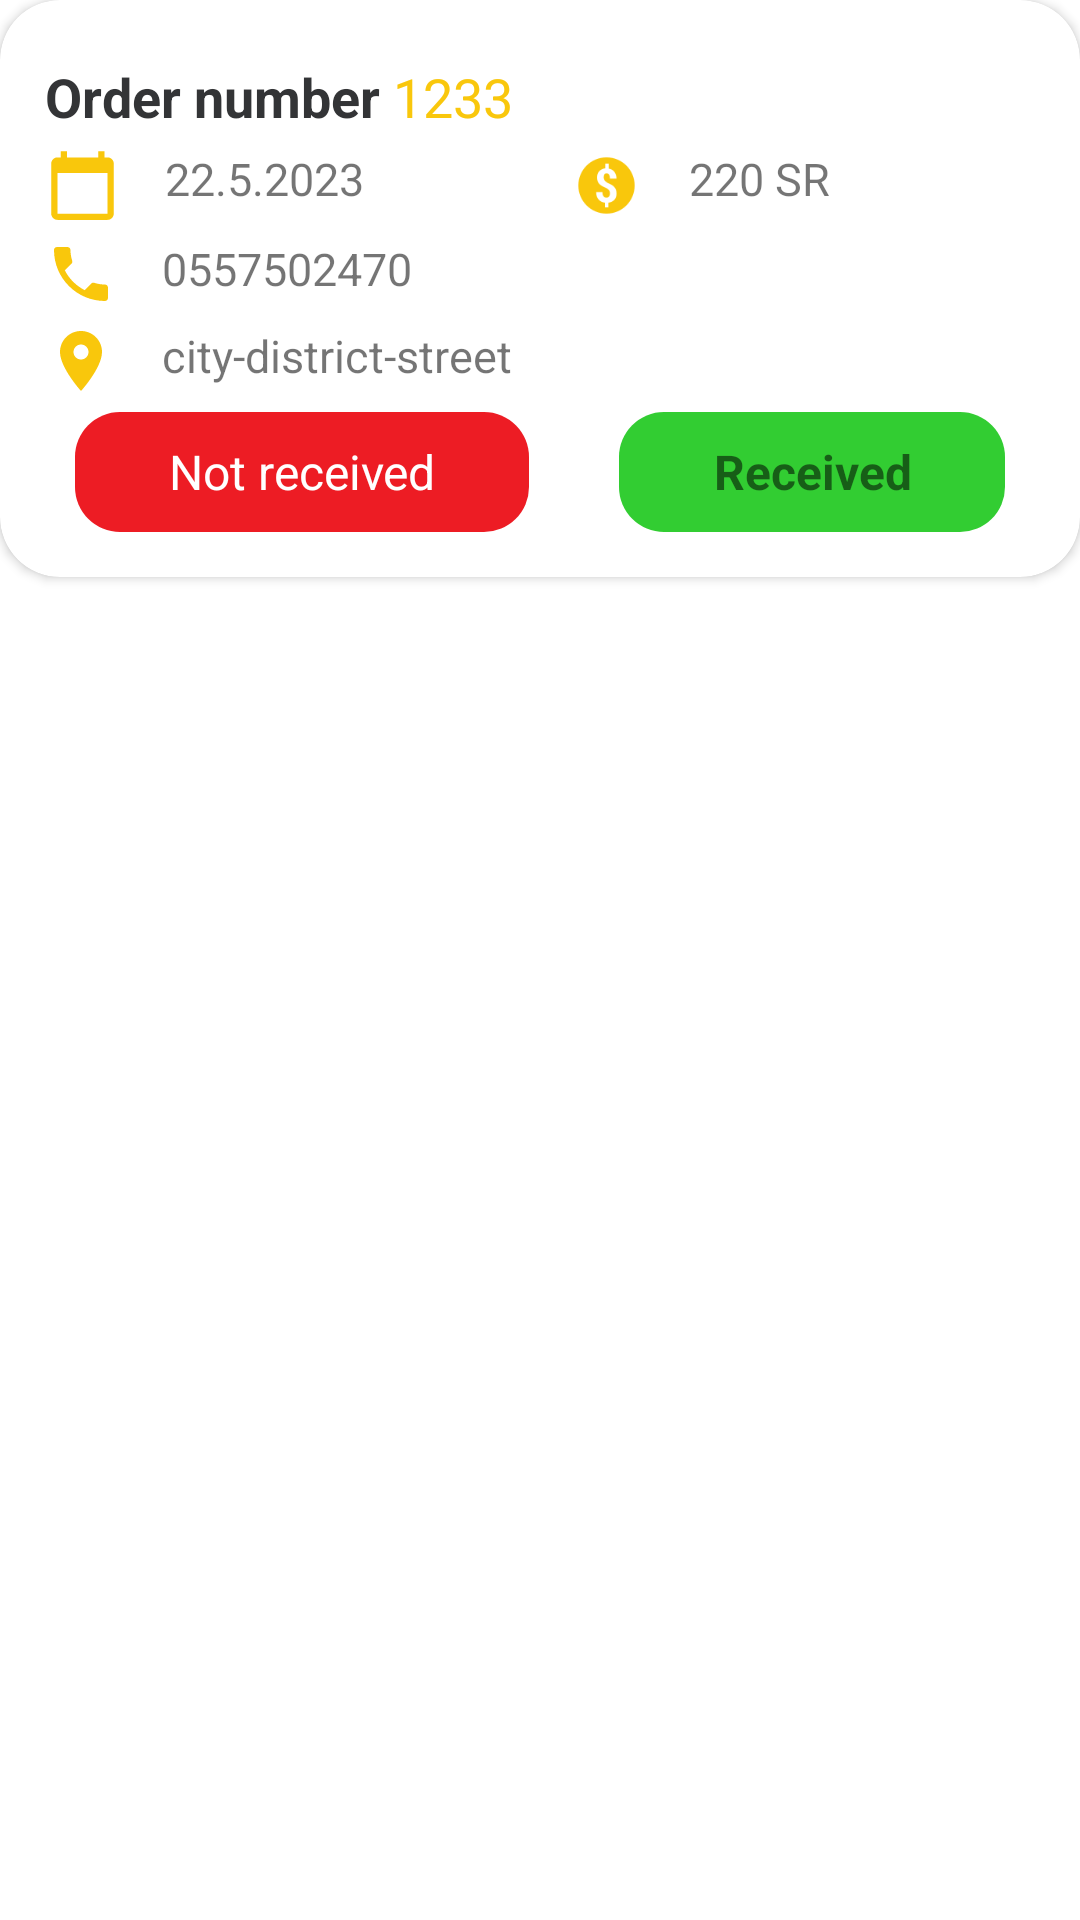

Icon bounding boxes for this 1080 x 1920 phone screenshot, format (x1=x1, y1=y1, x2=x2, y2=y2):
calendar: (x1=51, y1=151, x2=114, y2=220)
coin: (x1=578, y1=157, x2=635, y2=214)
location: (x1=60, y1=331, x2=102, y2=391)
phone: (x1=54, y1=247, x2=108, y2=301)
